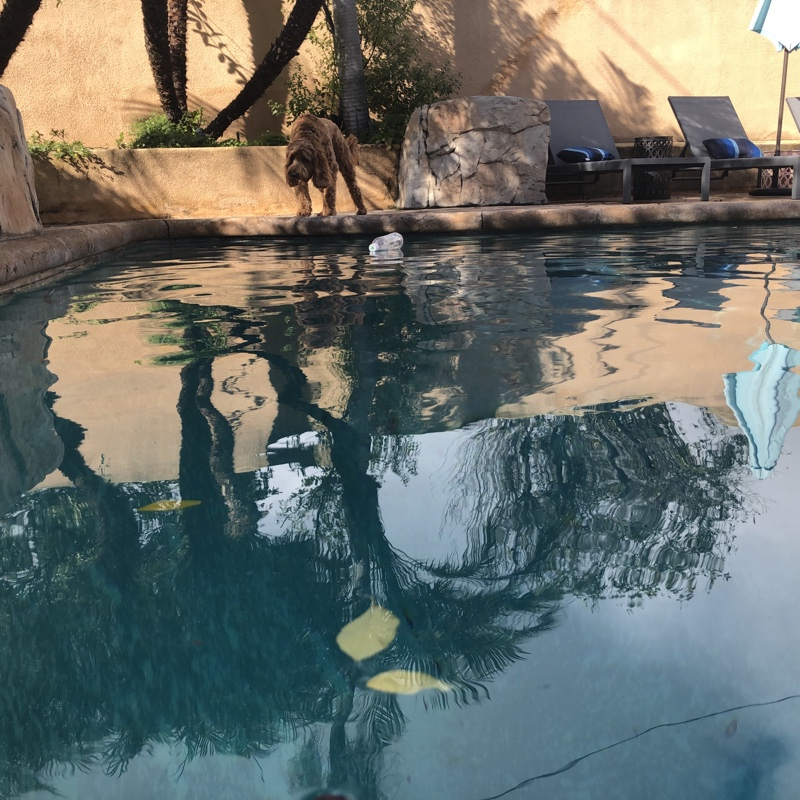Plastic Bottle: (366, 232, 404, 256)
